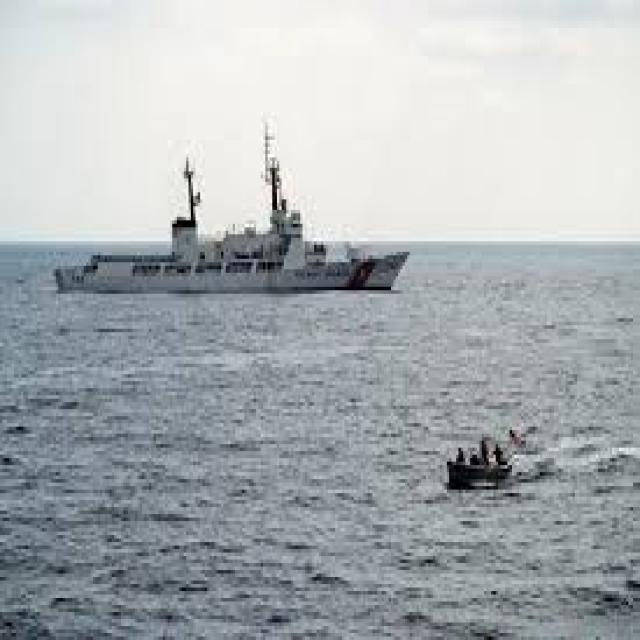navalvessels: (54, 123, 418, 310)
